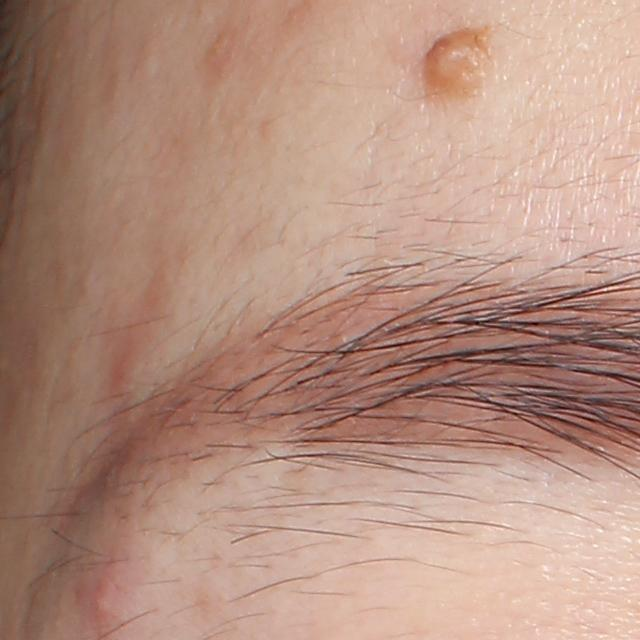other: (406, 11, 499, 113)
papule: (90, 560, 131, 631)
